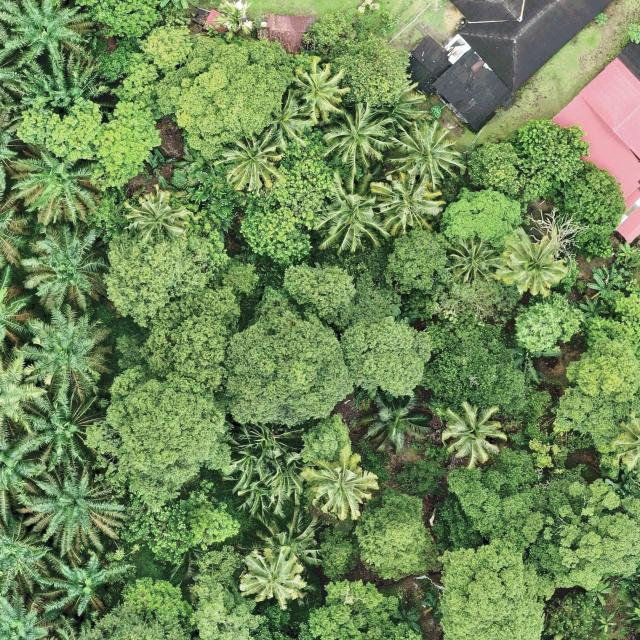Tree: (434, 445, 640, 591), (156, 32, 318, 162), (102, 363, 229, 521), (224, 286, 353, 430), (238, 128, 339, 266), (15, 97, 162, 191), (99, 224, 229, 328), (16, 456, 132, 560), (140, 281, 243, 393), (436, 537, 546, 640), (5, 302, 115, 403), (117, 491, 242, 568), (19, 221, 109, 321), (552, 384, 640, 479), (22, 381, 114, 470), (339, 315, 432, 401), (307, 577, 432, 640), (1, 43, 113, 112), (35, 545, 137, 620), (7, 147, 102, 227), (353, 487, 432, 583), (310, 166, 392, 257), (0, 0, 101, 69), (327, 33, 412, 109), (517, 117, 591, 204), (302, 446, 380, 520), (558, 163, 626, 245), (354, 387, 432, 458), (251, 505, 326, 574), (391, 119, 467, 187), (442, 186, 524, 249), (565, 334, 640, 402), (281, 261, 359, 326), (513, 289, 584, 359), (370, 172, 446, 237), (322, 100, 392, 170), (440, 400, 508, 468), (498, 231, 568, 297), (219, 125, 286, 191), (383, 226, 447, 293), (240, 552, 310, 612), (292, 58, 351, 124), (583, 294, 640, 358), (466, 138, 522, 194), (137, 24, 195, 72), (258, 94, 311, 146), (300, 411, 351, 463), (448, 236, 498, 285), (613, 415, 640, 483), (578, 294, 610, 324), (586, 274, 620, 300), (585, 579, 614, 606), (616, 242, 640, 266)
